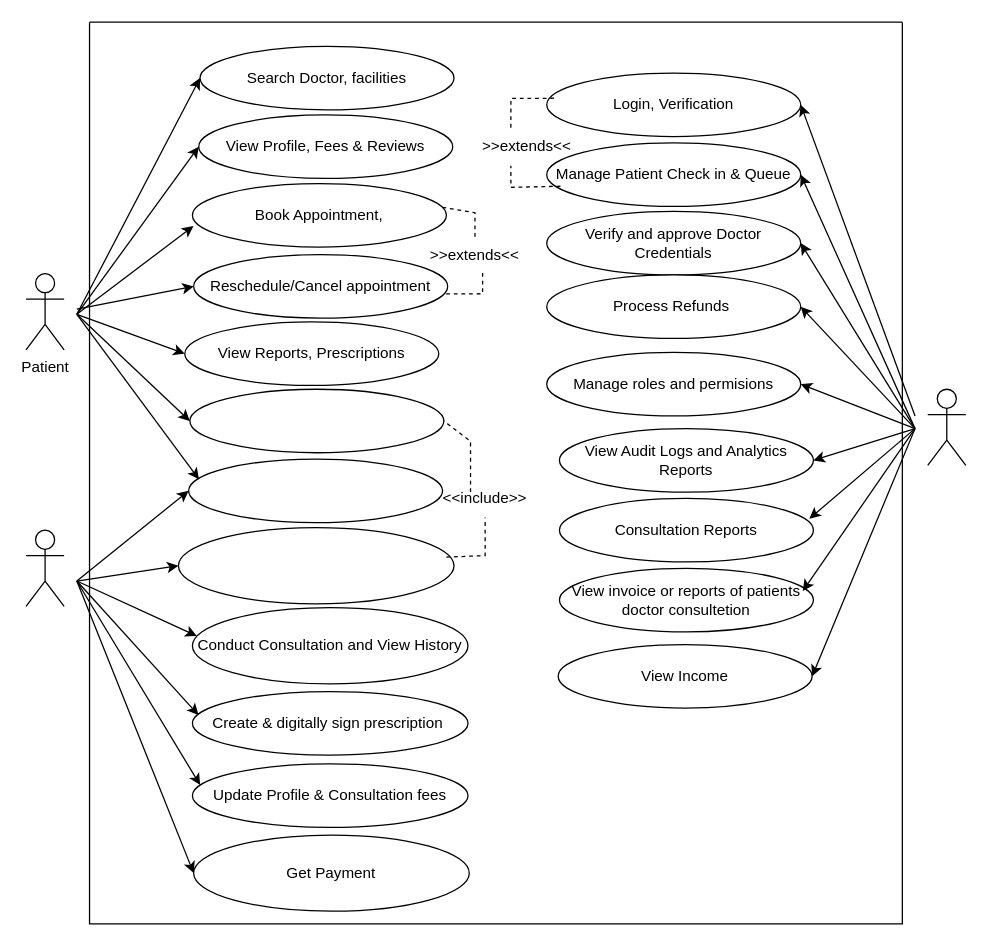
This 991x946 diagram has some shape labels left out. The box of each missing label's shape, as (x1, y1, x2, y2) in pixels:
Admin: (926, 388, 966, 465)
Doctor: (25, 529, 64, 606)
Manage working days time slots, Medical Records and Reports: (177, 526, 454, 604)
Register, Login, Verification: (187, 458, 443, 523)
Submit Rating, Reviews and Payment: (189, 388, 444, 453)
